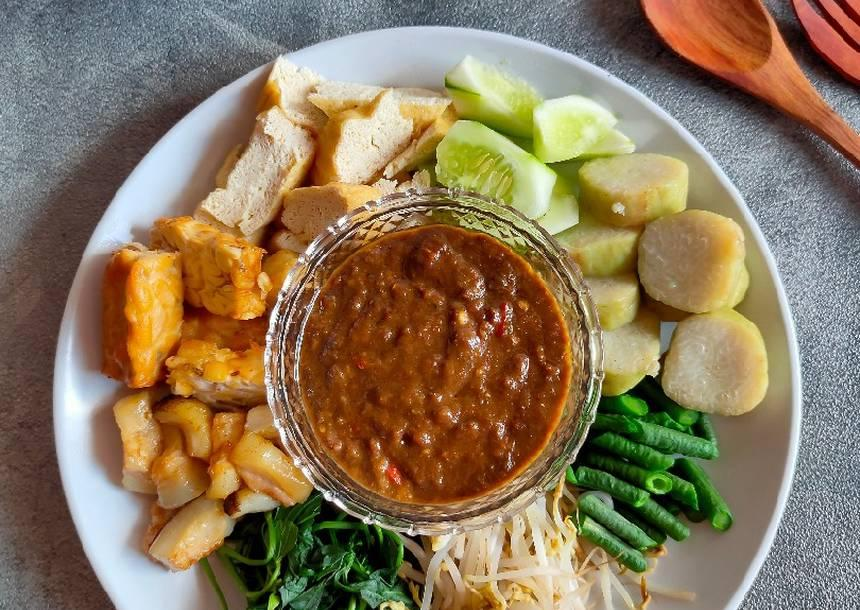rujak_cingur: (97, 56, 768, 610)
